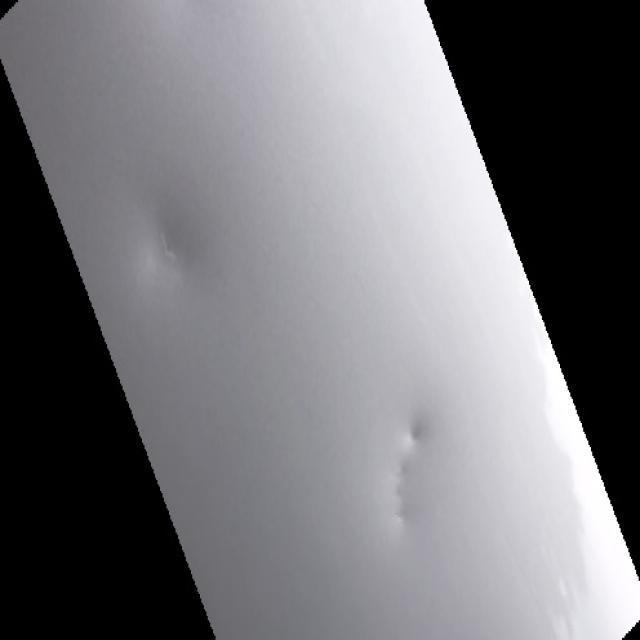dent: (393, 375, 435, 537), (131, 202, 198, 303)
